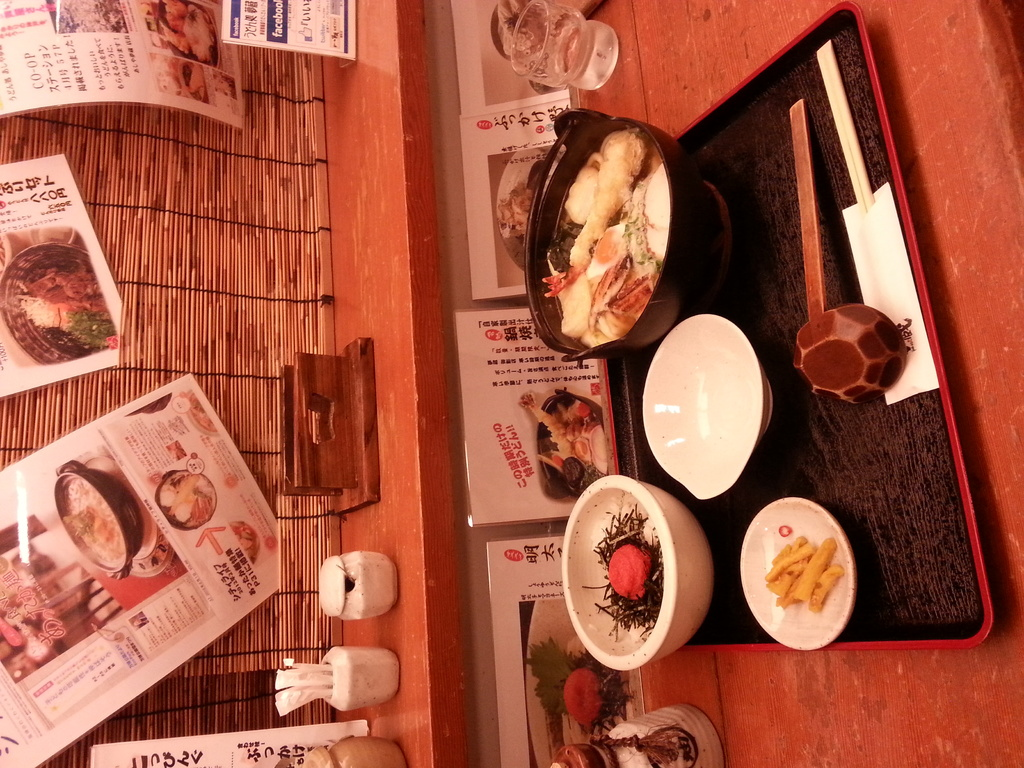French fries: (752, 517, 842, 621)
